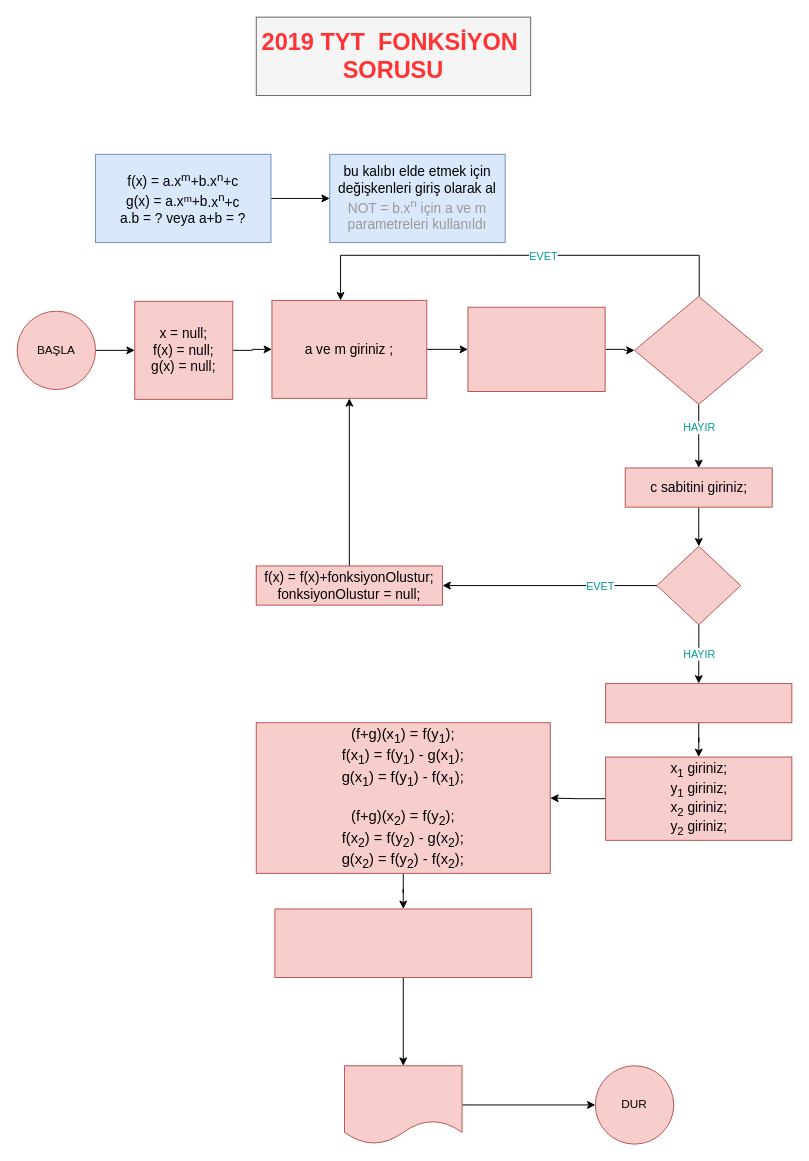
Some shapes in this 809 by 1161 pixel diagram are drawn without their labels. Each missing label, with the box of its shape:
bilinmeyen başka bağımsız değişken var mı ?: (634, 295, 763, 404)
f(x) == null;: (656, 545, 741, 625)
fonksiyonOlustur = fonksiyonOlustur + a.x m ;: (467, 306, 605, 392)
g(x) = g(x)+fonksiyonOlustur;: (605, 683, 792, 723)
Result = a.b;: (274, 908, 532, 978)
Result;: (343, 1065, 462, 1144)
